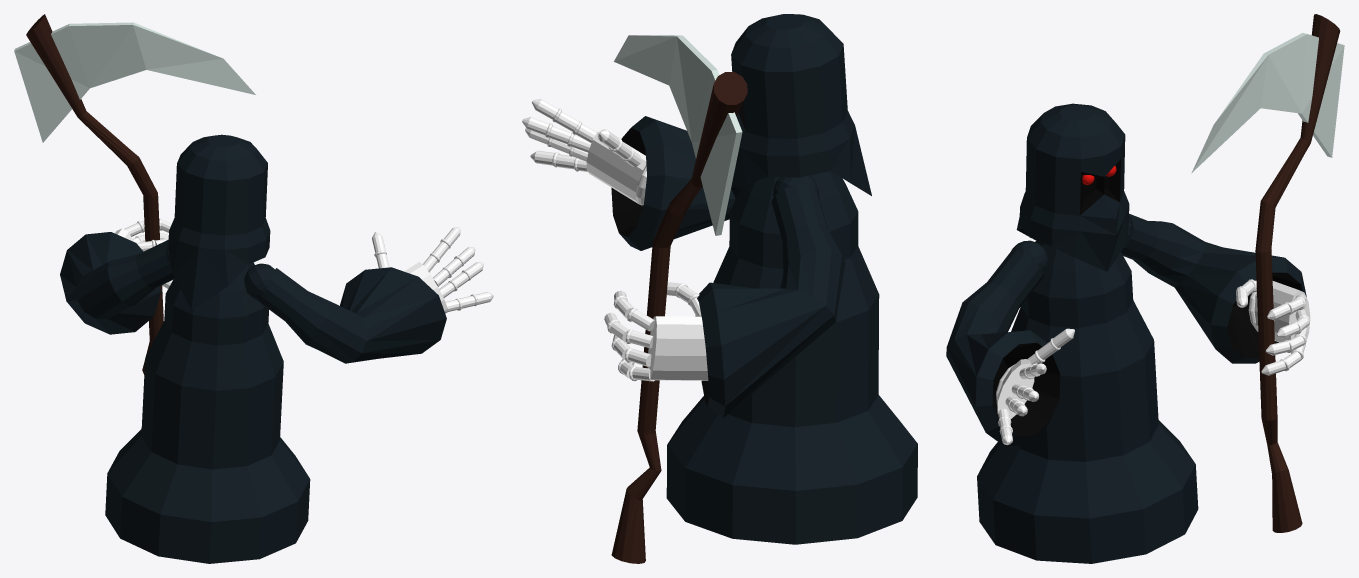
The model's file is Reaper.obj.
3 views of the same model, side by side, from view 1: azimuth 30°, elevation 25°; view 2: azimuth 150°, elevation 25°; view 3: azimuth 270°, elevation 25° (orthographic). The views are drawn at different scales.
Visible parts, largest first — view 1: mesh892375890_3, mesh892375890_1, mesh892375890, mesh892375890_2; view 2: mesh892375890_3, mesh892375890_2, mesh892375890, mesh892375890_1, mesh892375890_4; view 3: mesh892375890_3, mesh892375890, mesh892375890_1, mesh892375890_2, mesh892375890_4.
Part boxes in pixels (x1,y1,x2,y2): mesh892375890_3: (60,134,446,563); mesh892375890_1: (14,22,255,142); mesh892375890: (26,14,163,428); mesh892375890_2: (115,218,493,313); mesh892375890_3: (619,14,917,544); mesh892375890_2: (522,99,708,381); mesh892375890: (611,72,747,563); mesh892375890_1: (614,35,742,235); mesh892375890_4: (611,101,745,405); mesh892375890_3: (946,103,1306,563); mesh892375890: (1255,14,1340,532); mesh892375890_1: (1191,33,1344,173); mesh892375890_2: (996,279,1310,445); mesh892375890_4: (992,159,1302,436).
Size of the model in its own units: 0.8913 by 1.12 by 0.846.
